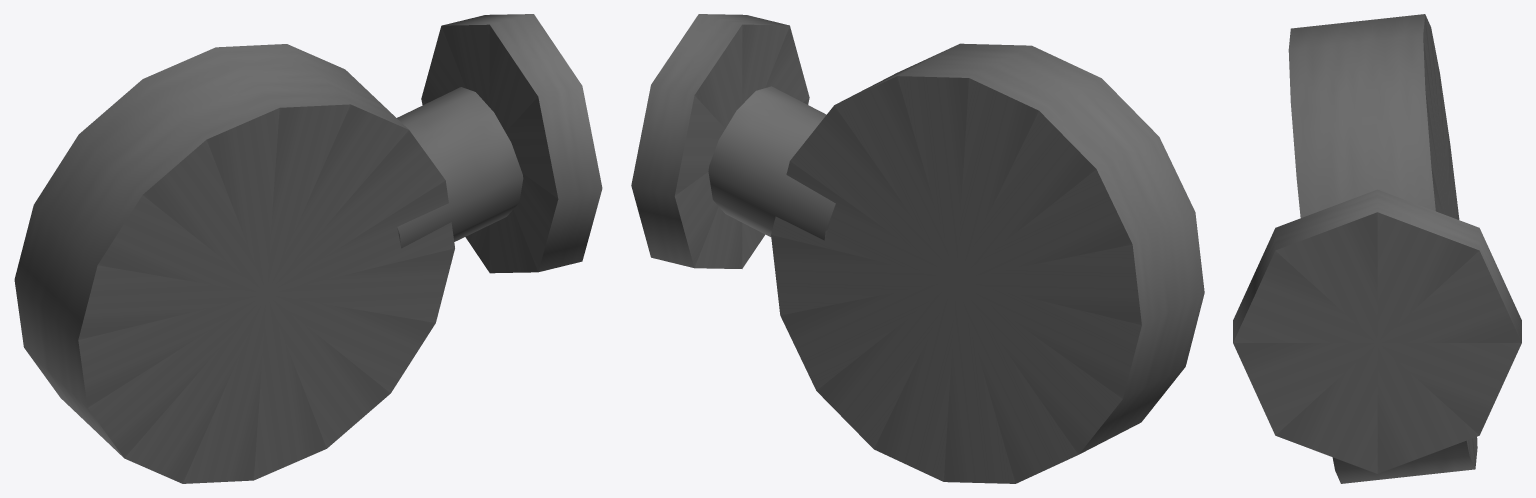
File: mastarmcurve_5x1_c4_east.obj
3 renders of one model, left to right at view 1: azimuth 30°, elevation 25°; view 2: azimuth 150°, elevation 25°; view 3: azimuth 270°, elevation 25°, orthographic. The views are drawn at different scales.
Parts seen in each view (by area): view 1: mastarm_5x1_c4_east; view 2: mastarm_5x1_c4_east; view 3: mastarm_5x1_c4_east.
Boxes of the visible parts, <box> form: mastarm_5x1_c4_east: <box>14,14,602,483</box>; mastarm_5x1_c4_east: <box>631,14,1204,483</box>; mastarm_5x1_c4_east: <box>1233,14,1521,483</box>.
Size of the model in its own units: 0.8168 by 0.6526 by 0.4.
